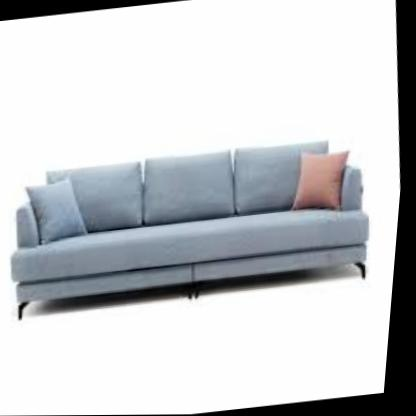Sofa: (0, 107, 409, 339)
